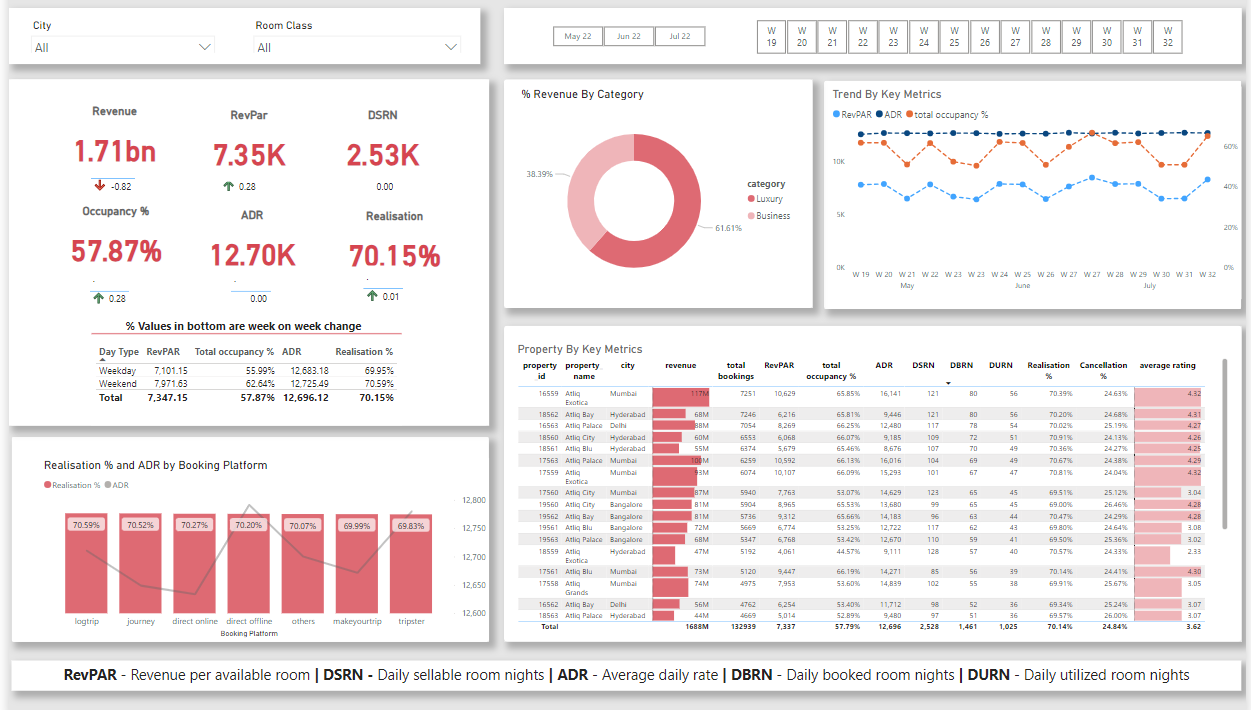

This screenshot's page, from the dashboard's own definition file:
{"tool":"powerbi","page":{"name":"Page 1","canvas":[1800,1100],"ordinal":0},"visuals":[{"type":"shape","box":[3.6,689.1,694.5,298.2],"z":0},{"type":"shape","box":[720,527.3,1072.7,460],"z":1000},{"type":"shape","box":[1185.5,170.9,607.3,332.7],"z":2000},{"type":"shape","box":[720,169.1,449.1,332.7],"z":3000},{"type":"shape","box":[0,169.1,698.2,503.6],"z":4000},{"type":"shape","box":[720,66.4,1072.7,81.8],"z":5000},{"type":"shape","box":[0,65.5,685.5,81.8],"z":6000},{"type":"tableEx","title":"Property By Key Metrics","fields":{"Values":["dim_hotel.property_id","dim_hotel.property_name","dim_hotel.city","key_measures.revenue","key_measures.total bookings","key_measures.RevPAR","key_measures.total occupancy %","key_measures.ADR","key_measures.DSRN","key_measures.DBRN","key_measures.DURN","key_measures.Realisation %"]},"box":[734.5,550.9,1043.6,427.3],"z":7000},{"type":"slicer","fields":{"Values":["dim_hotel.city"]},"box":[21.8,76.4,287.3,54.5],"z":8000},{"type":"slicer","fields":{"Values":["dim_room.room_class"]},"box":[345.5,76.4,321.8,54.5],"z":9000},{"type":"slicer","fields":{"Values":["dim_date.mmm yy"]},"box":[765.5,86.4,270.9,41.8],"z":10000},{"type":"slicer","fields":{"Values":["dim_date.week no"]},"box":[1061.8,76.4,669.1,61.8],"z":11000},{"type":"donutChart","title":"% Revenue By Category","fields":{"Category":["dim_hotel.category"],"Y":["key_measures.revenue"]},"box":[740,180,412.7,312.7],"z":12000},{"type":"lineChart","title":"Trend By Key Metrics","fields":{"Category":["dim_date.mmm yy.Variation.Date Hierarchy.Month","dim_date.week no"],"Y":["key_measures.RevPAR","key_measures.ADR"],"Y2":["key_measures.total occupancy %"]},"box":[1192.7,180,600,309.1],"z":13000},{"type":"tableEx","fields":{"Values":["key_measures.Revenue WoW change %"]},"box":[112.7,280,83.6,96.4],"z":14000},{"type":"tableEx","fields":{"Values":["key_measures.Revpar WoW change %"]},"box":[300,280,89.1,76.4],"z":15000},{"type":"tableEx","fields":{"Values":["key_measures.DSRN WoW change %"]},"box":[487.3,280,114.5,76.4],"z":16000},{"type":"card","title":"Occupancy %","fields":{"Values":["key_measures.total occupancy %"]},"box":[67.3,350.9,176.4,107.3],"z":17000},{"type":"card","title":"ADR","fields":{"Values":["key_measures.ADR"]},"box":[265.5,356.4,176.4,107.3],"z":18000},{"type":"card","title":"Realisation","fields":{"Values":["key_measures.Realisation %"]},"box":[472.7,358.2,176.4,107.3],"z":19000},{"type":"tableEx","fields":{"Values":["key_measures.Occupancy WoW change %"]},"box":[110.9,443.6,85.5,83.6],"z":20000},{"type":"tableEx","fields":{"Values":["key_measures.ADR WoW change %"]},"box":[316.4,443.6,74.5,89.1],"z":21000},{"type":"tableEx","fields":{"Values":["key_measures.Realisation WoW change %"]},"box":[509.1,440,72.7,87.3],"z":22000},{"type":"lineStackedColumnComboChart","fields":{"Category":["fact_booking.booking_platform"],"Y":["key_measures.Realisation %"],"Y2":["key_measures.ADR"]},"box":[45.5,720,652.7,265.5],"z":23000},{"type":"tableEx","fields":{"Values":["dim_date.day_type","key_measures.RevPAR","key_measures.total occupancy %","key_measures.ADR","key_measures.Realisation %"]},"box":[120,550.9,450.9,121.8],"z":24000},{"type":"card","title":"Revenue","fields":{"Values":["key_measures.revenue"]},"box":[65.5,205.5,176.4,107.3],"z":25000},{"type":"card","title":"RevPar","fields":{"Values":["key_measures.RevPAR"]},"box":[261.8,210.9,174.5,107.3],"z":26000},{"type":"card","title":"DSRN","fields":{"Values":["key_measures.DSRN"]},"box":[456.4,210.9,174.5,107.3],"z":27000},{"type":"textbox","box":[3.6,1014.5,1789.1,43.6],"z":28000},{"type":"textbox","box":[120,510.9,441.8,41.8],"z":29000},{"type":"shape","box":[120,389.1,450.9,300],"z":30004}]}

Visuals, with their boxes on the page's 1800x1100 design canvas (x1, y1, x2, y2). These are canvas units, not pixel positions in the 1251x710 screenshot, which may show the page scaled, cropped or inside an application window:
shape: box=[4, 689, 698, 987]
shape: box=[720, 527, 1793, 987]
shape: box=[1186, 171, 1793, 504]
shape: box=[720, 169, 1169, 502]
shape: box=[0, 169, 698, 673]
shape: box=[720, 66, 1793, 148]
shape: box=[0, 66, 686, 147]
"Property By Key Metrics" tableEx: box=[734, 551, 1778, 978]
slicer - dim_hotel.city: box=[22, 76, 309, 131]
slicer - dim_room.room_class: box=[346, 76, 667, 131]
slicer - dim_date.mmm yy: box=[766, 86, 1036, 128]
slicer - dim_date.week no: box=[1062, 76, 1731, 138]
"% Revenue By Category" donutChart: box=[740, 180, 1153, 493]
"Trend By Key Metrics" lineChart: box=[1193, 180, 1793, 489]
tableEx - key_measures.Revenue WoW change %: box=[113, 280, 196, 376]
tableEx - key_measures.Revpar WoW change %: box=[300, 280, 389, 356]
tableEx - key_measures.DSRN WoW change %: box=[487, 280, 602, 356]
"Occupancy %" card: box=[67, 351, 244, 458]
"ADR" card: box=[266, 356, 442, 464]
"Realisation" card: box=[473, 358, 649, 466]
tableEx - key_measures.Occupancy WoW change %: box=[111, 444, 196, 527]
tableEx - key_measures.ADR WoW change %: box=[316, 444, 391, 533]
tableEx - key_measures.Realisation WoW change %: box=[509, 440, 582, 527]
lineStackedColumnComboChart - fact_booking.booking_platform x key_measures.Realisation %: box=[46, 720, 698, 986]
tableEx - dim_date.day_type x key_measures.RevPAR: box=[120, 551, 571, 673]
"Revenue" card: box=[66, 206, 242, 313]
"RevPar" card: box=[262, 211, 436, 318]
"DSRN" card: box=[456, 211, 631, 318]
textbox: box=[4, 1014, 1793, 1058]
textbox: box=[120, 511, 562, 553]
shape: box=[120, 389, 571, 689]
